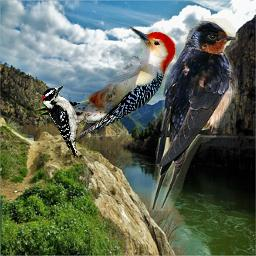Swallow: (147, 18, 238, 211)
Woodpecker: (35, 27, 176, 140), (41, 85, 94, 158)
